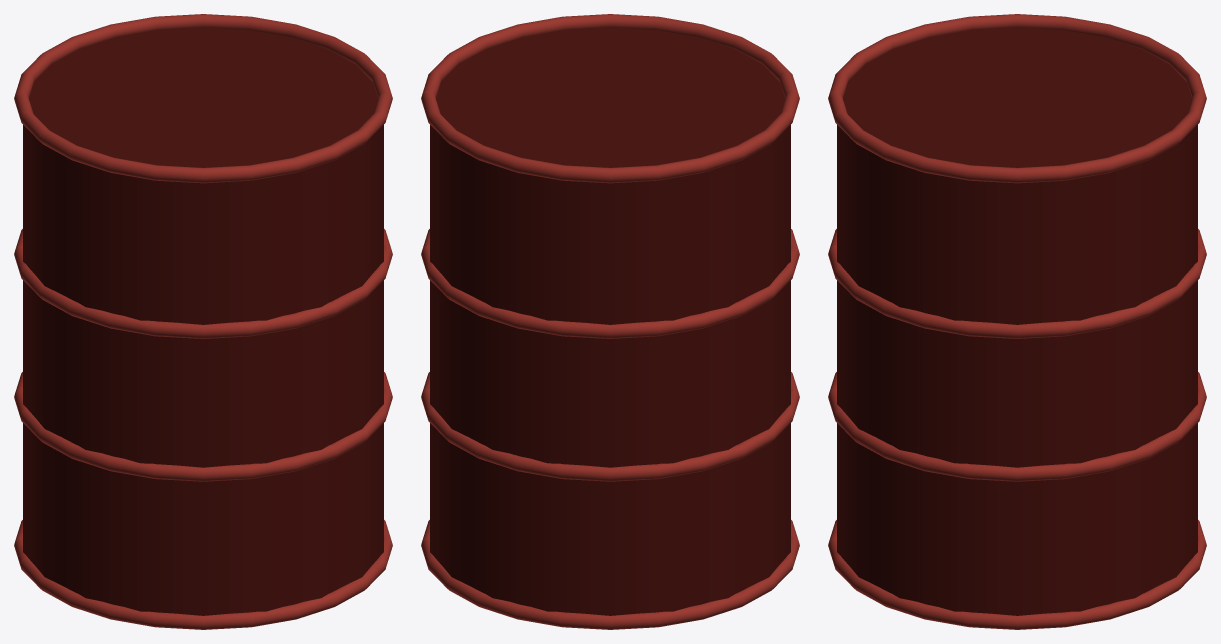
Rendered from Tank.FBX.
3 renders of one model, left to right at view 1: azimuth 30°, elevation 25°; view 2: azimuth 150°, elevation 25°; view 3: azimuth 270°, elevation 25°, orthographic.
Parts seen in each view (by area): view 1: Tank; view 2: Tank; view 3: Tank.
Part boxes in pixels (left/top/right/bottom): Tank: left=14, top=14, right=392, bottom=629; Tank: left=421, top=14, right=799, bottom=629; Tank: left=828, top=14, right=1206, bottom=629.
Bounding box in the file's own units: 19.36 × 25.99 × 19.36.
